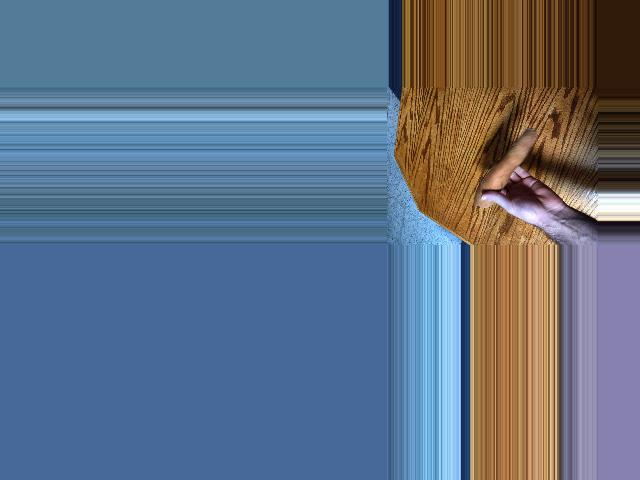sweet_potato: (478, 129, 539, 207)
